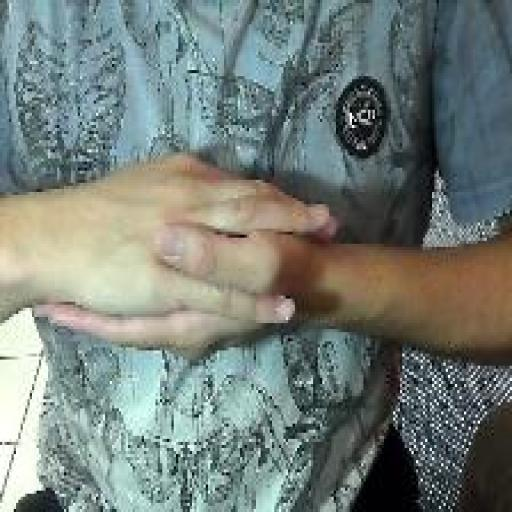Saru -monkey-: (23, 143, 343, 372)
